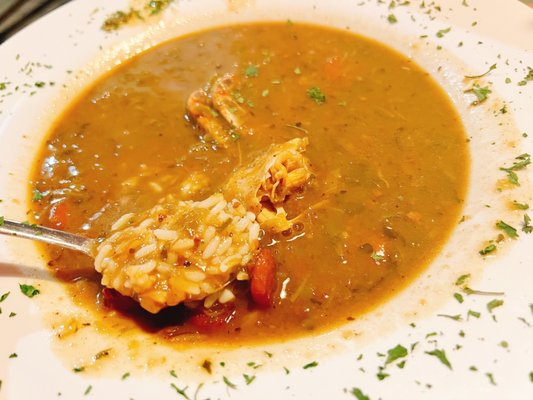sushi: (8, 10, 485, 374)
